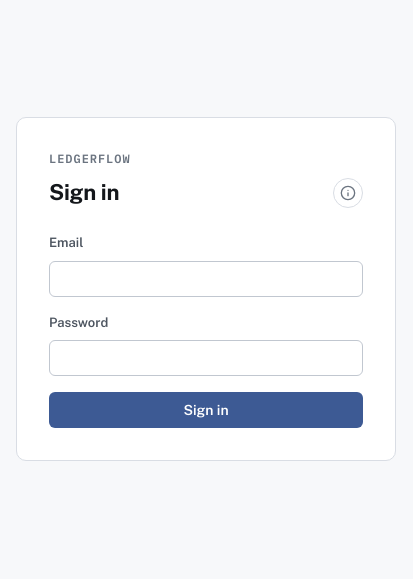
it: LoginPage › shows an error when credentials are rejected
In the field labelled "Email": (206, 278) x1=49 y1=260 x2=363 y2=296, type "ada@example.com"
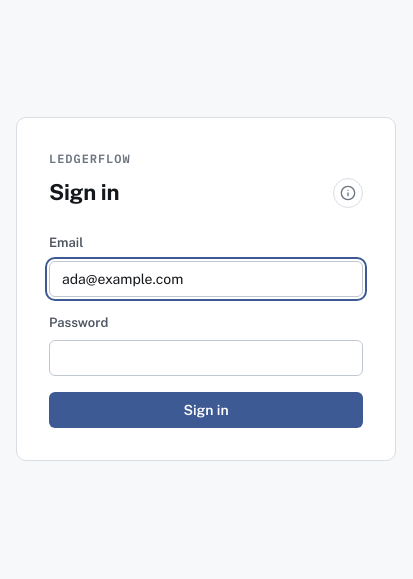
In the password field labelled "Password": (206, 358) x1=49 y1=340 x2=363 y2=376, type "wrong"
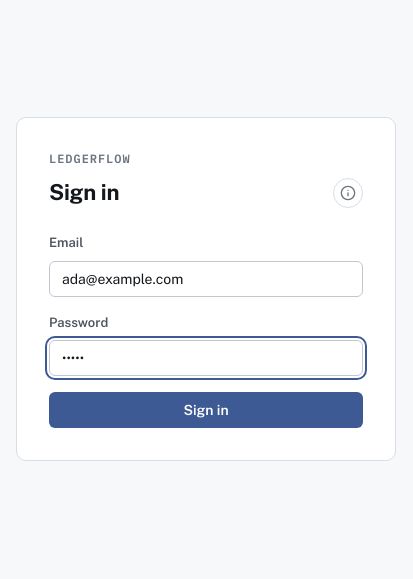
Click the button "Sign in": click(206, 410) x1=49 y1=392 x2=363 y2=428
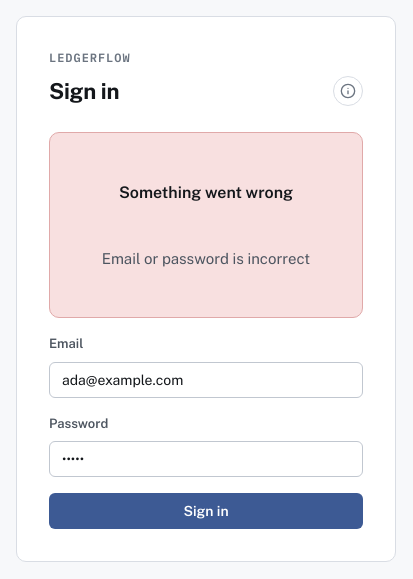
Now the message shows "incorrect", box x1=102 y1=250 x2=310 y2=267
